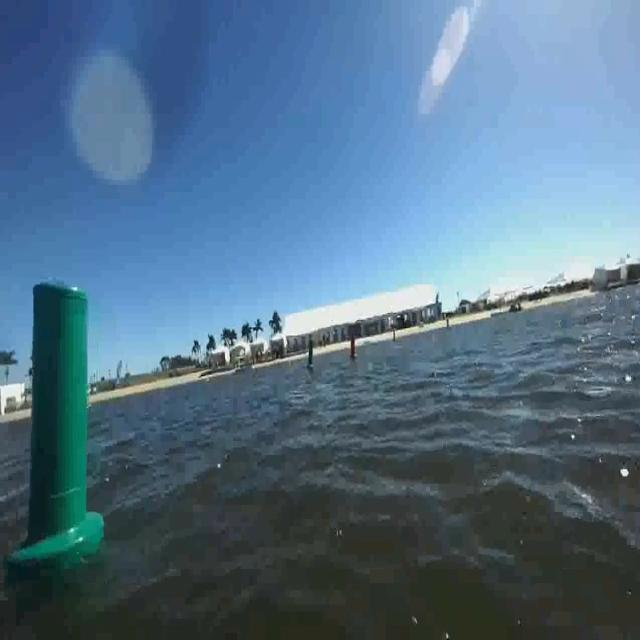green-column-buoy: (8, 281, 106, 583), (305, 339, 313, 370)
red-column-buoy: (350, 336, 358, 360)
